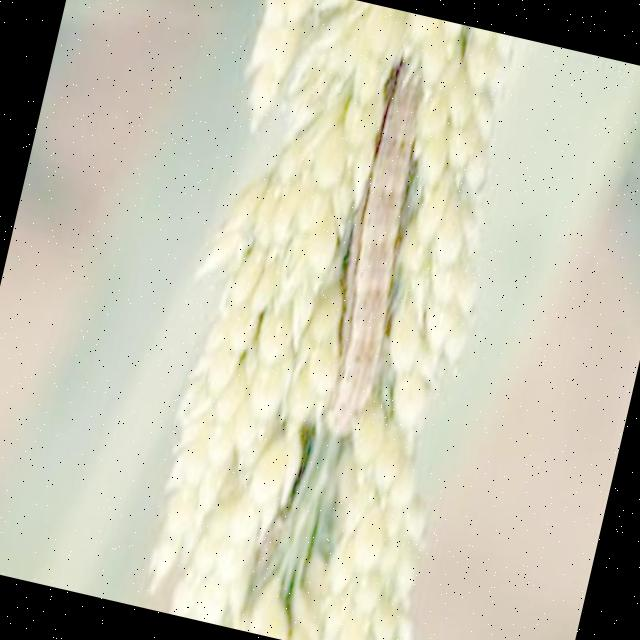worm: (286, 35, 476, 452)
